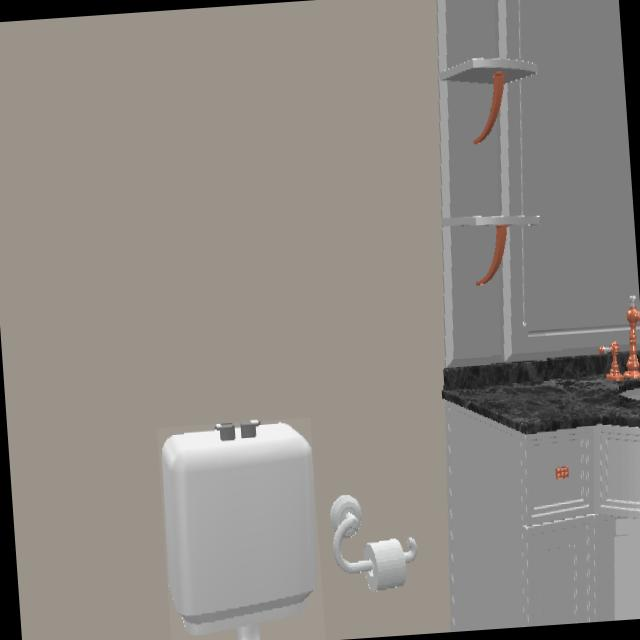toilet: (160, 421, 317, 640)
washbasin: (620, 382, 640, 406)
